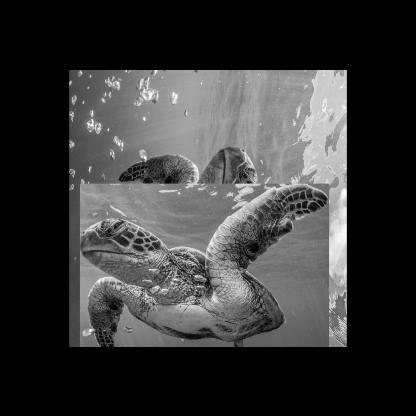turtle: (98, 164, 310, 346)
